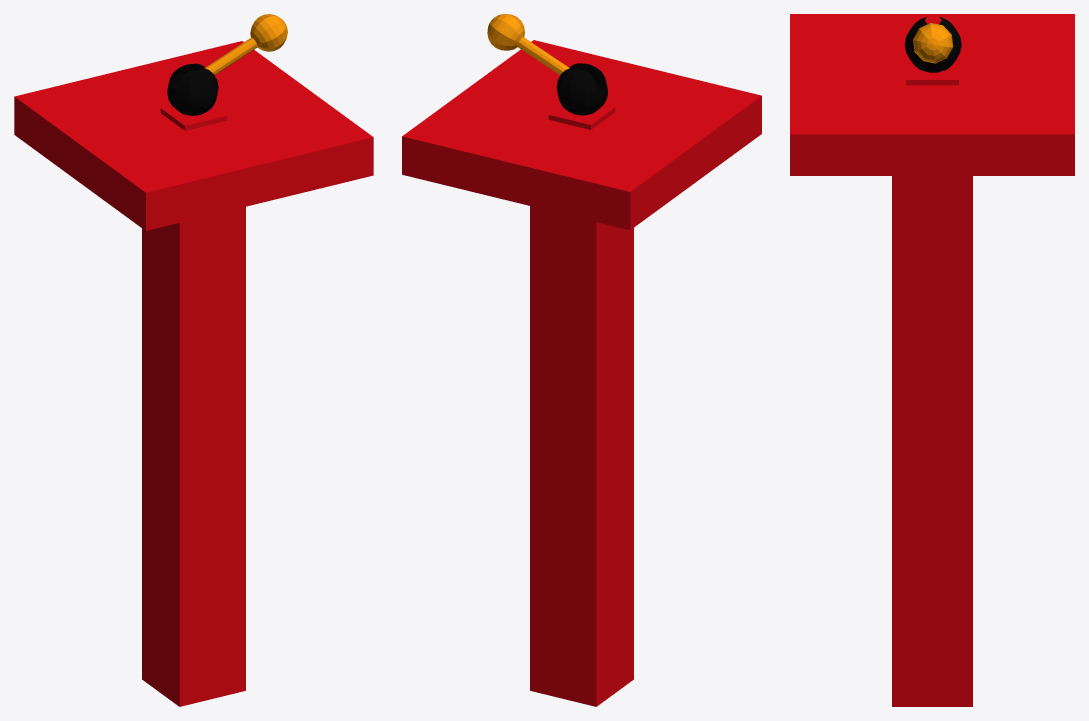
Rendered from Lever.fbx.
3 views of the same model, side by side, from view 1: azimuth 30°, elevation 25°; view 2: azimuth 150°, elevation 25°; view 3: azimuth 270°, elevation 25° (orthographic). The views are drawn at different scales.
Visible parts, largest first — view 1: Cube, Sphere.001; view 2: Cube, Sphere.001; view 3: Cube, Sphere.001.
Boxes of the visible parts, x1,y1,x2,y2 form: Cube: [14, 41, 373, 706]; Sphere.001: [204, 14, 287, 74]; Cube: [402, 40, 761, 706]; Sphere.001: [487, 14, 569, 75]; Cube: [790, 14, 1074, 706]; Sphere.001: [913, 23, 953, 63].
Size of the model in its own units: 200 by 546 by 200.
